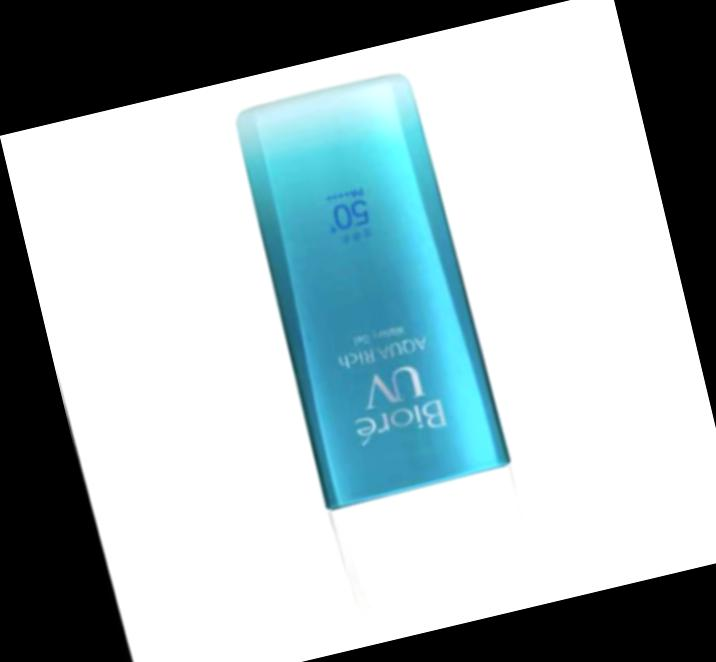cosmetic: (222, 62, 550, 632)
